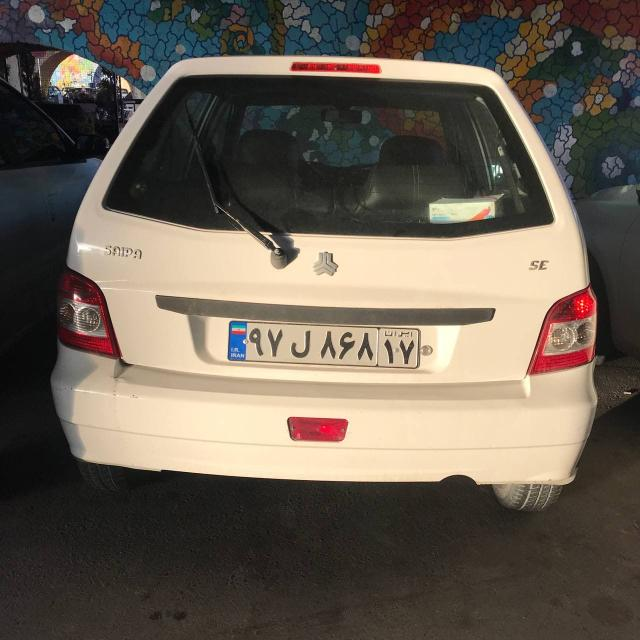Plates: (228, 321, 420, 369)
